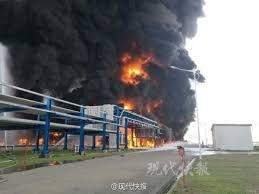fire: (121, 53, 151, 84), (17, 127, 63, 144)
